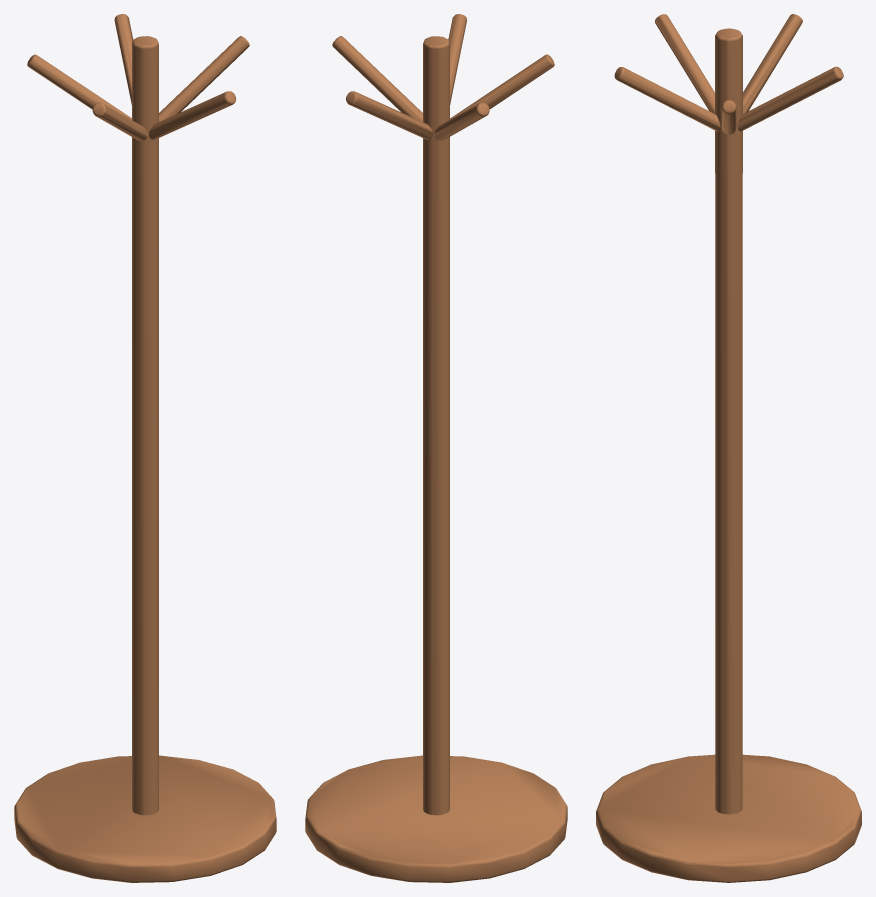
The model's file is 089_coat_rack.fbx.
3 renders of one model, left to right at view 1: azimuth 30°, elevation 25°; view 2: azimuth 150°, elevation 25°; view 3: azimuth 270°, elevation 25°, orthographic.
Parts seen in each view (by area): view 1: LC_089_coat_rack; view 2: LC_089_coat_rack; view 3: LC_089_coat_rack.
Part boxes in pixels (left/top/right/bottom): LC_089_coat_rack: left=14, top=14, right=276, bottom=882; LC_089_coat_rack: left=305, top=14, right=567, bottom=882; LC_089_coat_rack: left=596, top=14, right=861, bottom=882.
Size of the model in its own units: 0.5 by 1.65 by 0.5.
